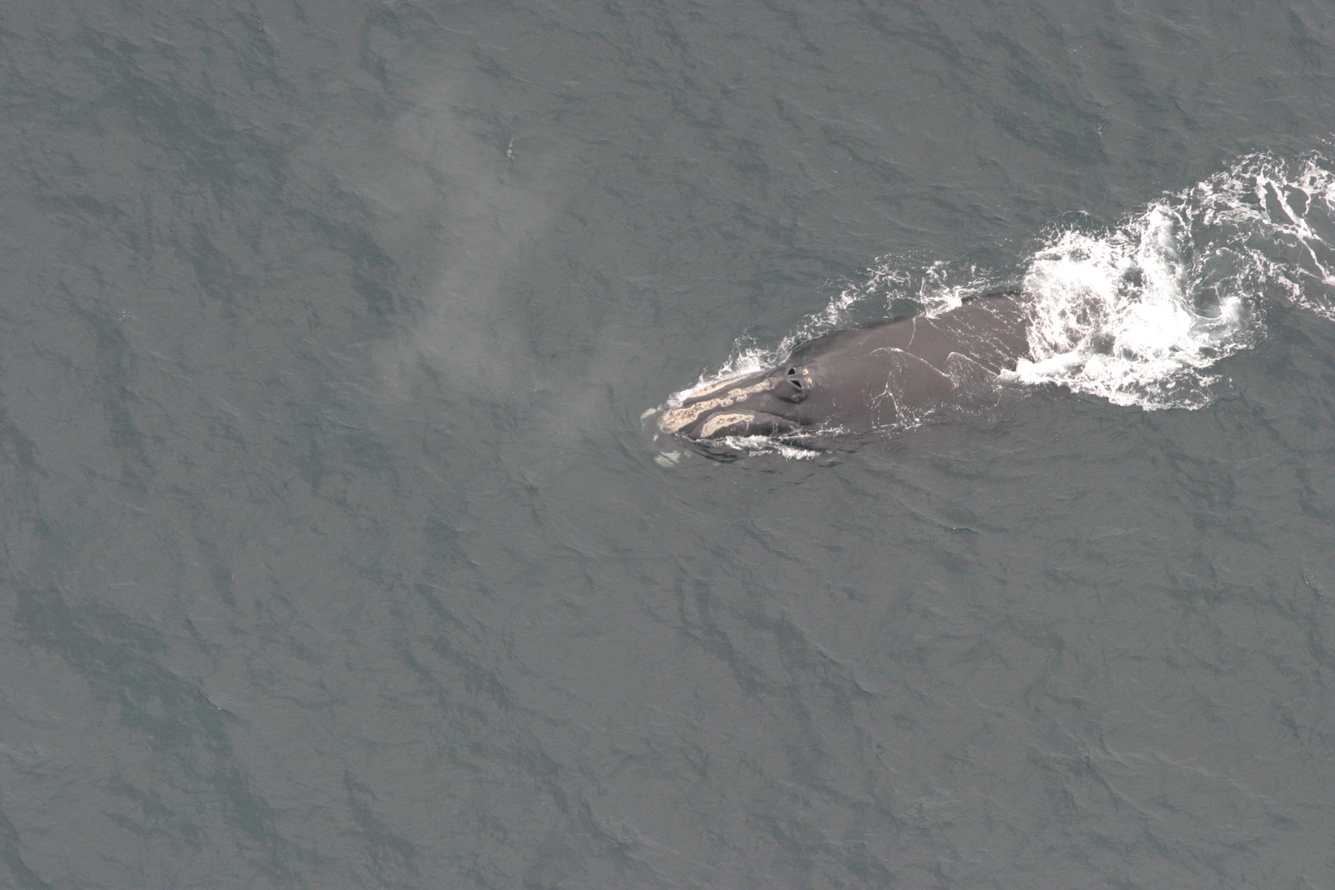whale: (636, 281, 1190, 474)
